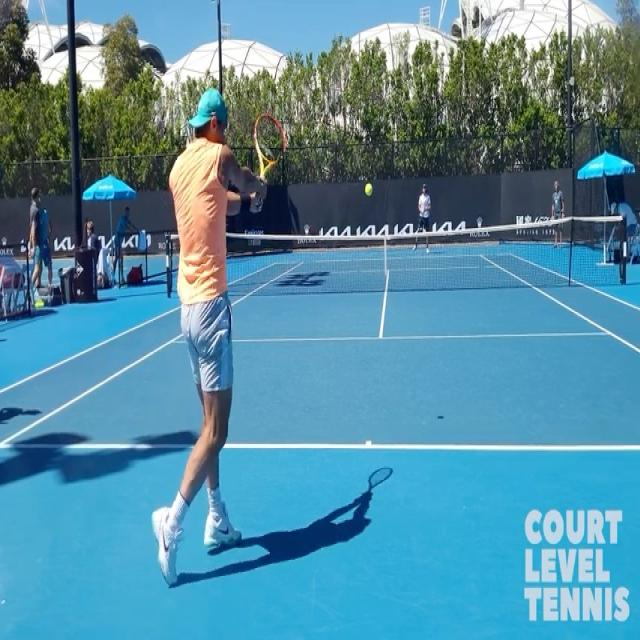backhand-stroke: (156, 88, 290, 608)
